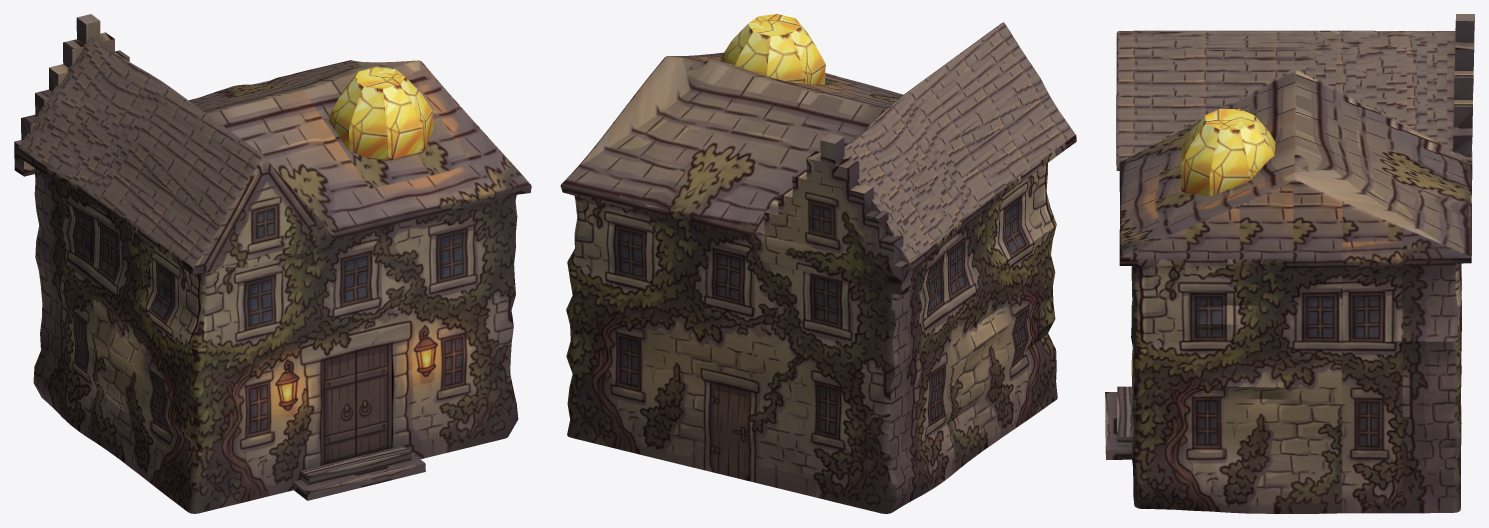
The model's file is cabinet.glb.
The picture shows the model from 3 angles, left to right: view 1: azimuth 30°, elevation 25°; view 2: azimuth 150°, elevation 25°; view 3: azimuth 270°, elevation 25°; orthographic projection.
Visible parts, largest first — view 1: cabinet, porte_d, porte_g; view 2: cabinet; view 3: cabinet.
Part boxes in pixels (x1,y1,x2,y2): cabinet: [14, 14, 531, 513]; porte_d: [356, 341, 391, 453]; porte_g: [321, 350, 356, 461]; cabinet: [560, 14, 1076, 513]; cabinet: [1105, 14, 1474, 513].
Size of the model in its own units: 6.44 by 6.41 by 5.89.
1 material, 1 textured.
